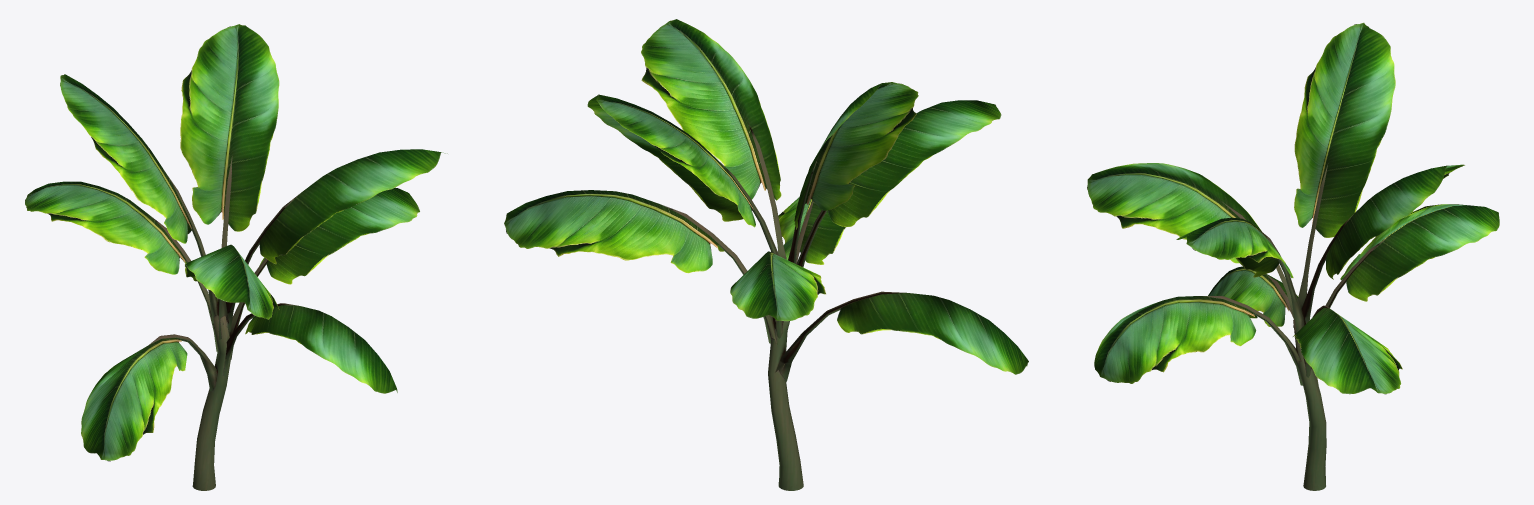
Rendered from banana.glb.
3 renders of one model, left to right at view 1: azimuth 30°, elevation 25°; view 2: azimuth 150°, elevation 25°; view 3: azimuth 270°, elevation 25°, orthographic. The views are drawn at different scales.
Parts seen in each view (by area): view 1: SM_MZRa_Banana_B091; view 2: SM_MZRa_Banana_B091; view 3: SM_MZRa_Banana_B091.
Part boxes in pixels (<box>): SM_MZRa_Banana_B091: <box>25,24,447,490</box>; SM_MZRa_Banana_B091: <box>504,19,1028,490</box>; SM_MZRa_Banana_B091: <box>1087,22,1499,490</box>.
Size of the model in its own units: 2.86 by 2.72 by 2.66.
2 materials, 2 textured.
